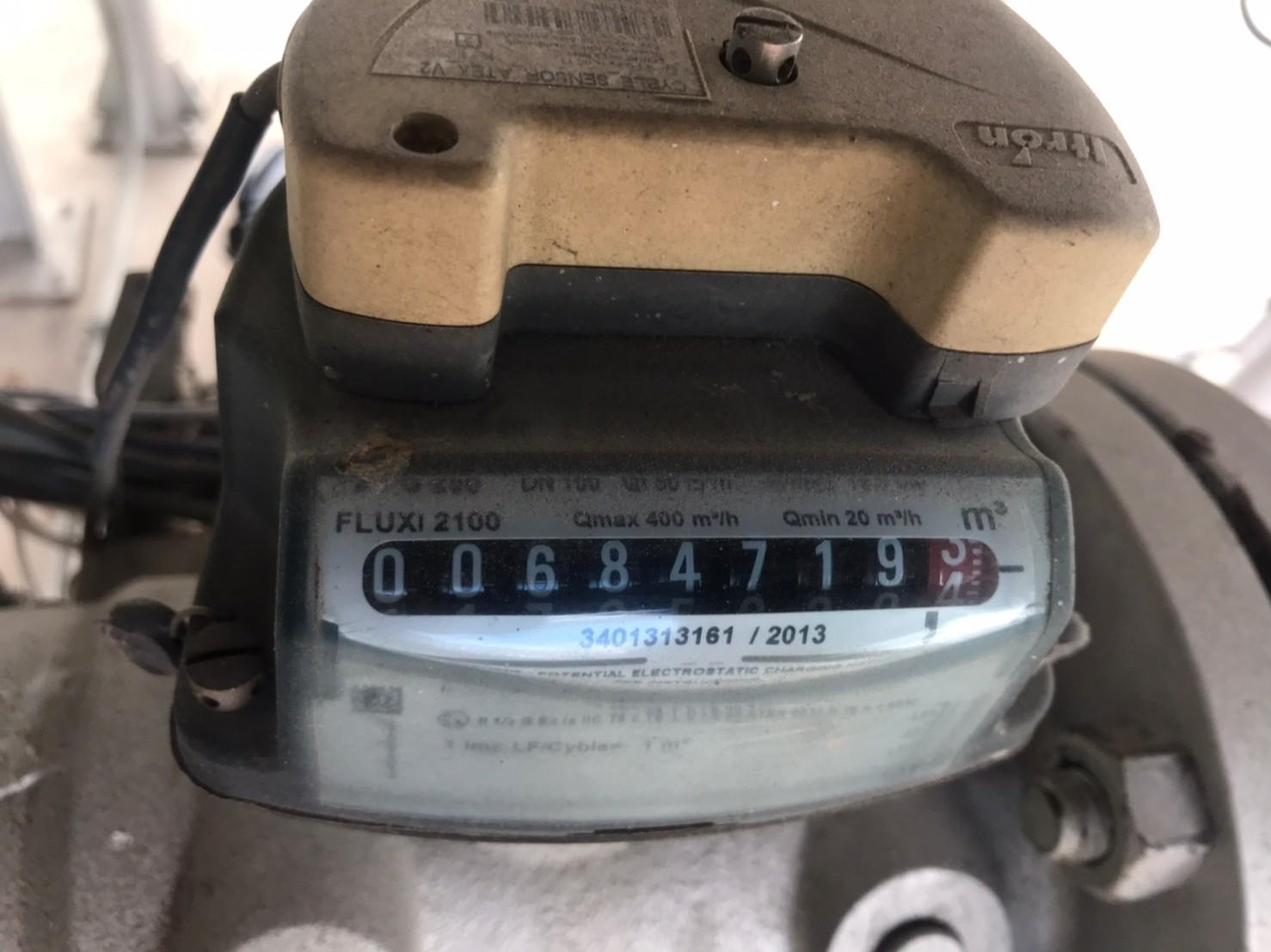analog_dial: (358, 534, 1028, 630)
